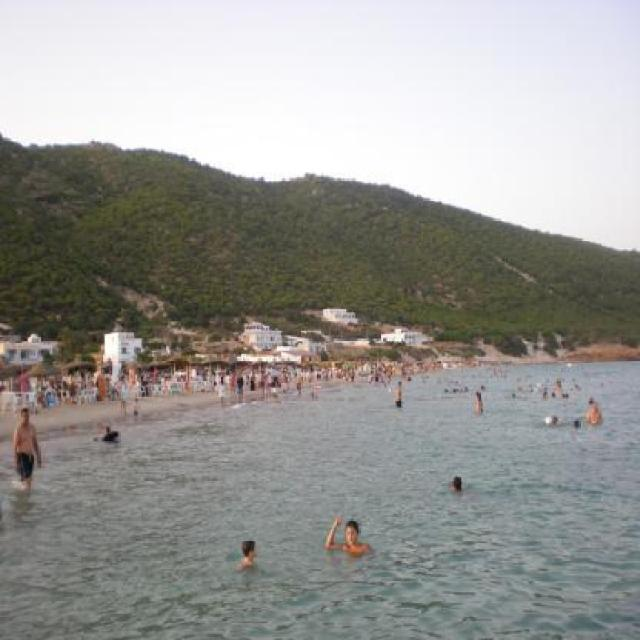Person: (12, 406, 43, 491), (248, 368, 302, 403), (325, 520, 369, 558), (235, 538, 257, 570), (584, 394, 604, 426), (120, 374, 128, 414), (394, 378, 403, 408), (233, 371, 242, 398), (218, 375, 225, 403), (475, 389, 482, 416)
